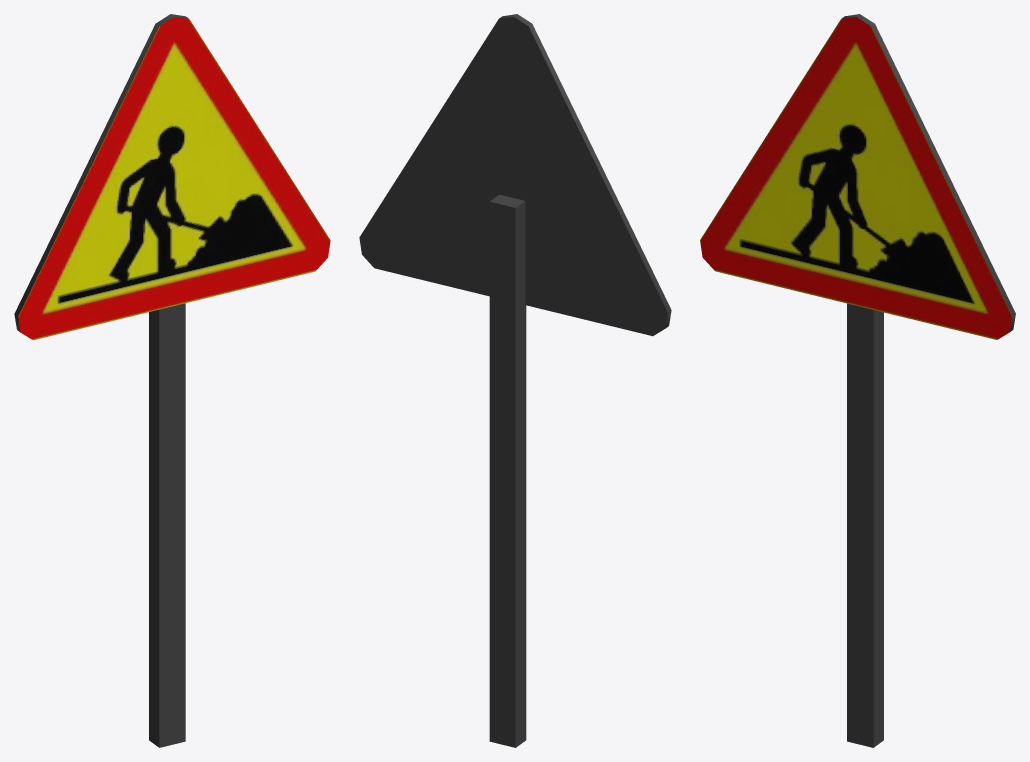
The model's file is Panneau.FBX.
The picture shows the model from 3 angles, left to right: view 1: azimuth 30°, elevation 25°; view 2: azimuth 150°, elevation 25°; view 3: azimuth 330°, elevation 25°; orthographic projection.
Visible parts, largest first — view 1: Cylinder001; view 2: Cylinder001; view 3: Cylinder001.
Part boxes in pixels (box(x1,y1,x2,y2)): Cylinder001: box(14, 14, 330, 747); Cylinder001: box(359, 14, 671, 747); Cylinder001: box(700, 14, 1015, 747).
Size of the model in its own units: 102 by 227 by 7.63.
